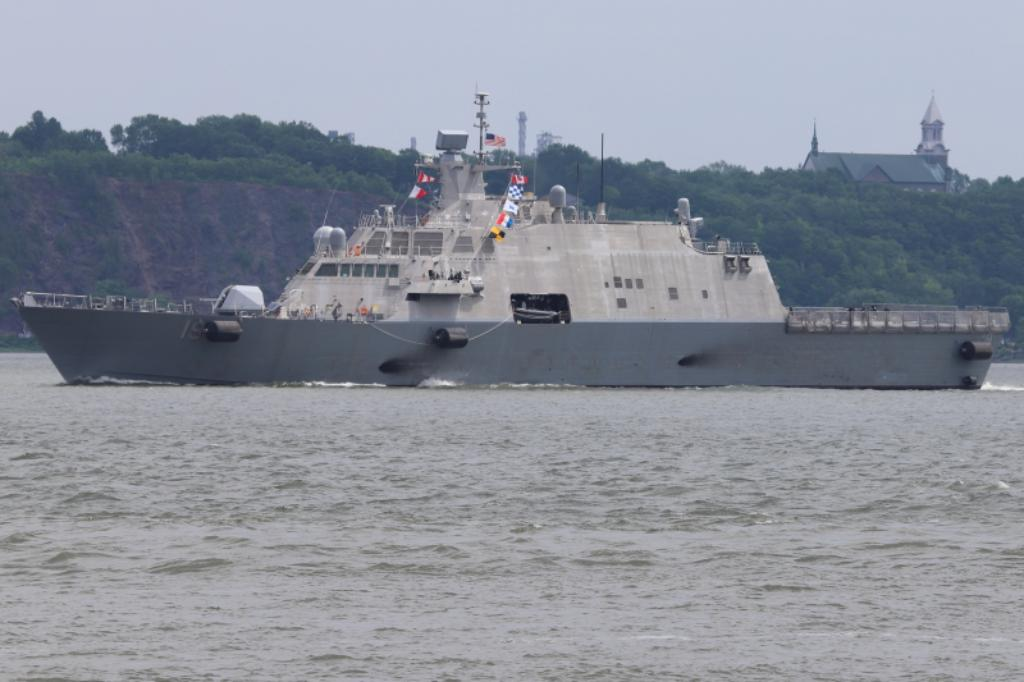Warship: (17, 94, 1015, 398)
